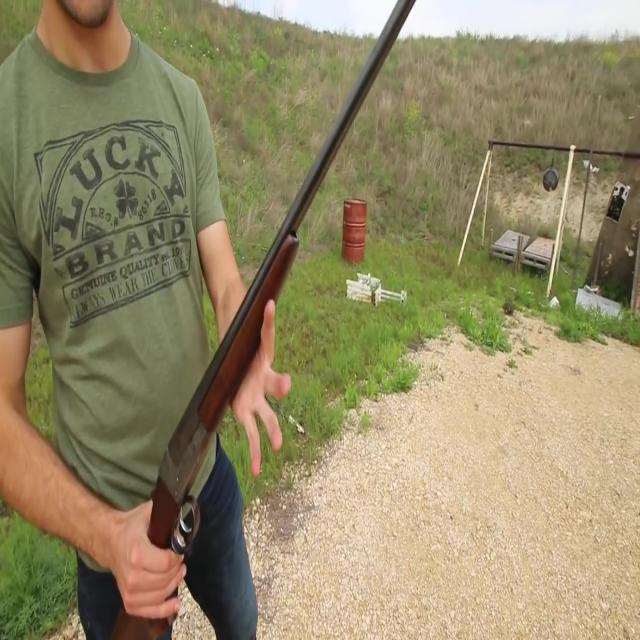Weapon: (113, 5, 428, 640)
